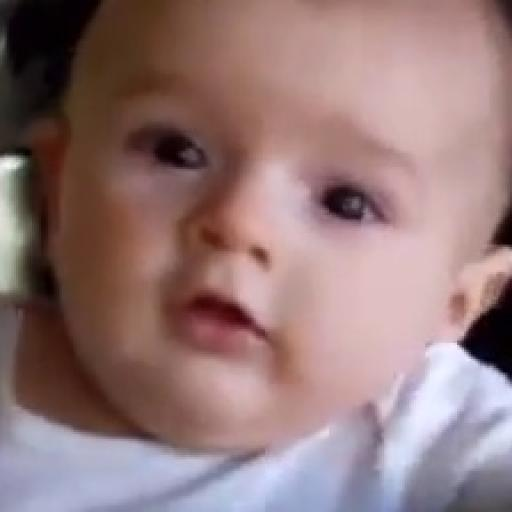Autism: (82, 0, 492, 460)
